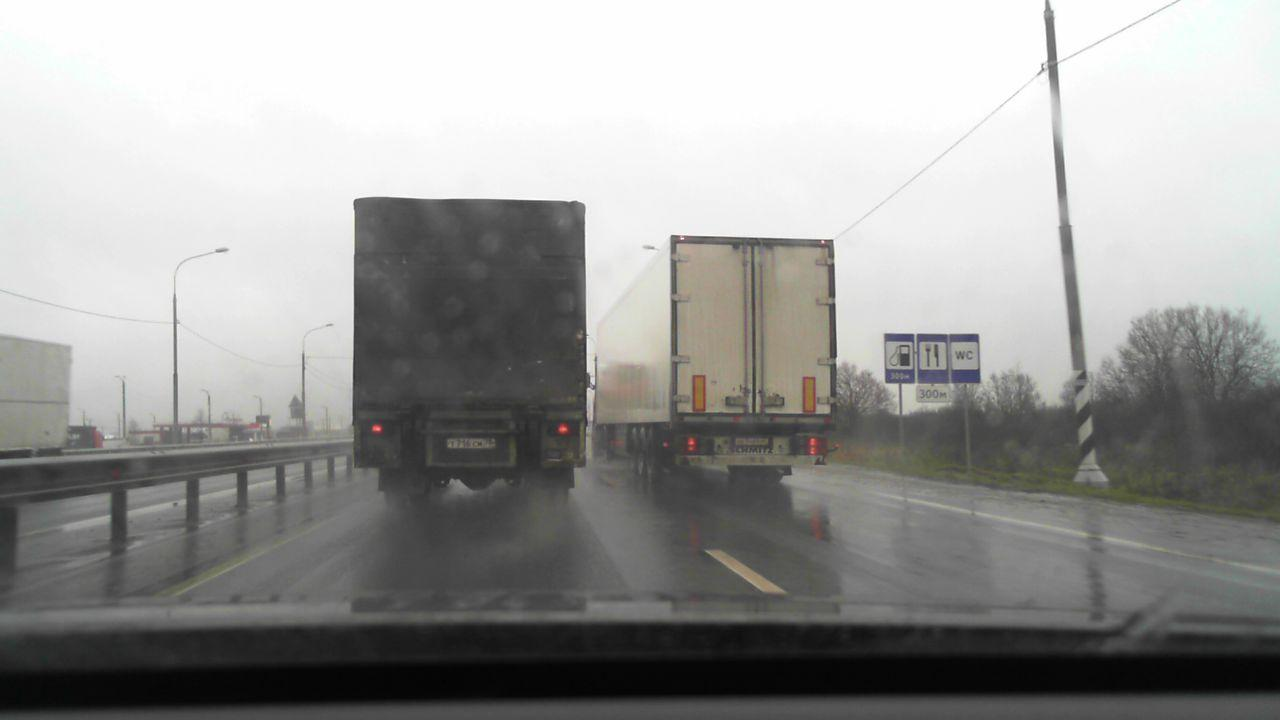7_18: (951, 334, 981, 383)
7_3: (881, 333, 915, 384)
7_7: (917, 333, 950, 384)
8_1_1: (915, 386, 954, 403)
